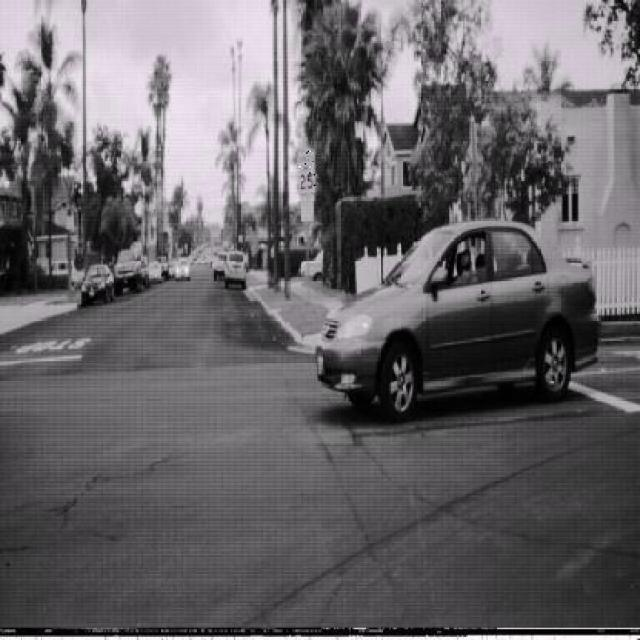speedLimit25: (296, 148, 316, 196)
